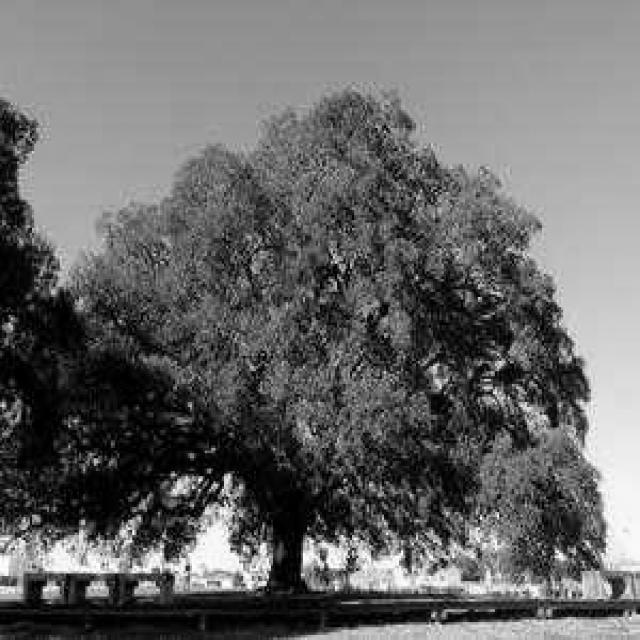Tree: (0, 91, 605, 589)
